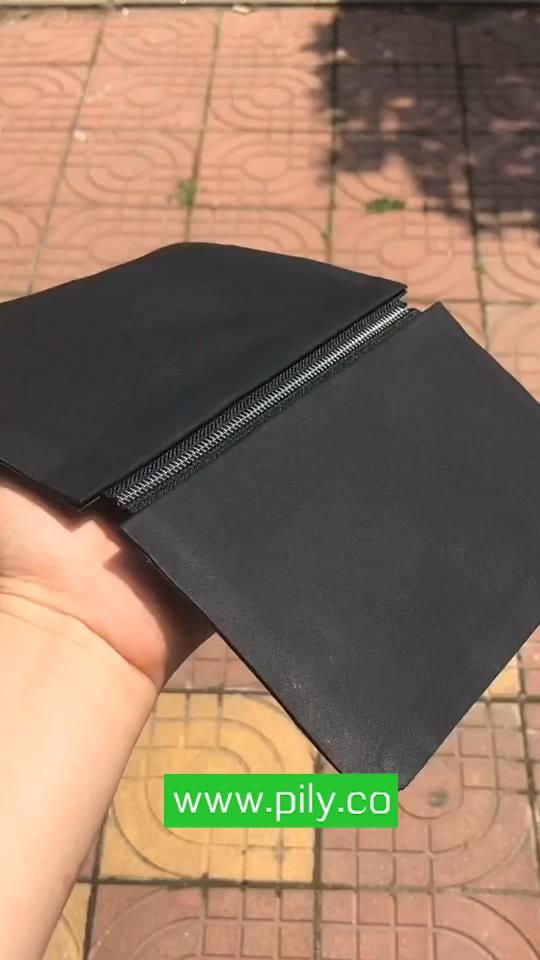cuero: (5, 241, 540, 790)
